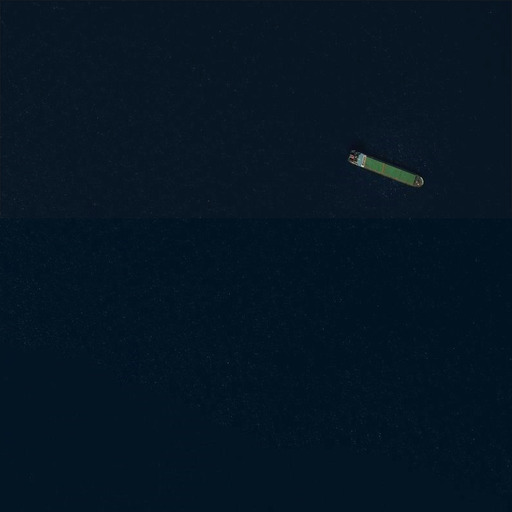ship: (344, 146, 427, 193)
